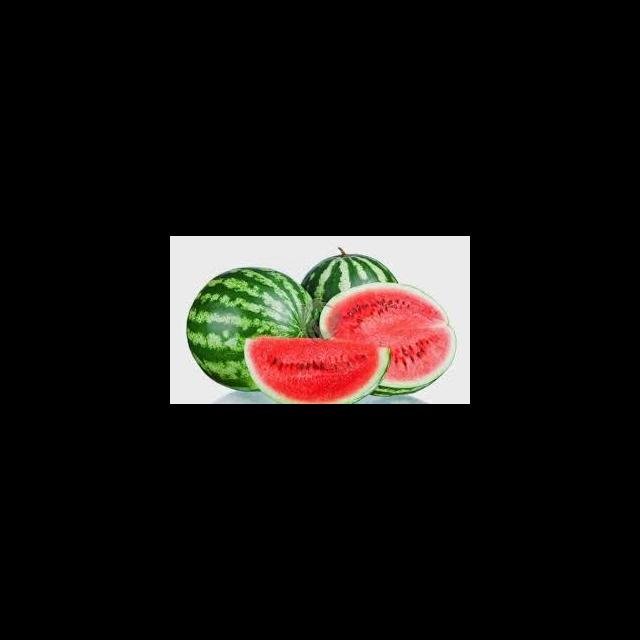watermelon: (186, 266, 320, 392), (318, 282, 458, 397), (244, 337, 392, 404), (301, 254, 398, 312)
